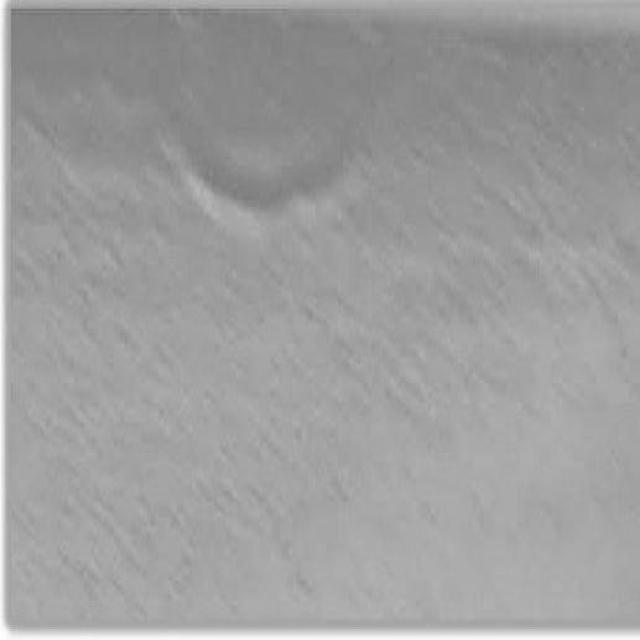paint drips: (145, 87, 409, 323)
